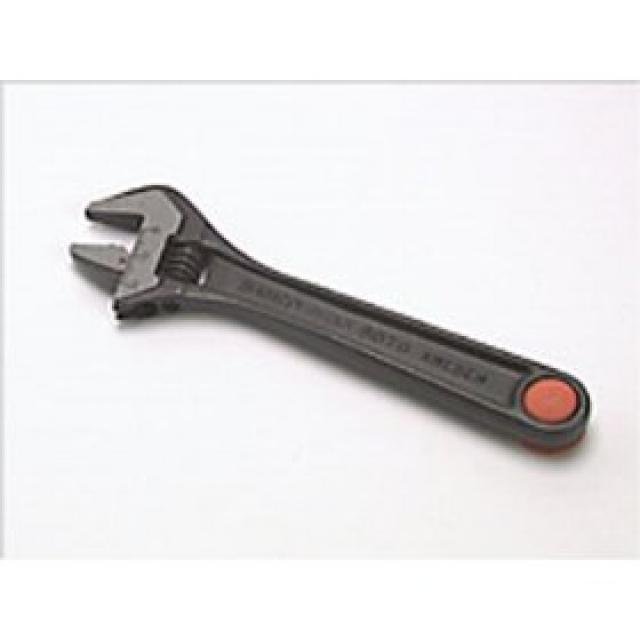wrench: (62, 174, 597, 458)
